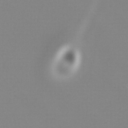normal: (72, 1, 101, 43)
